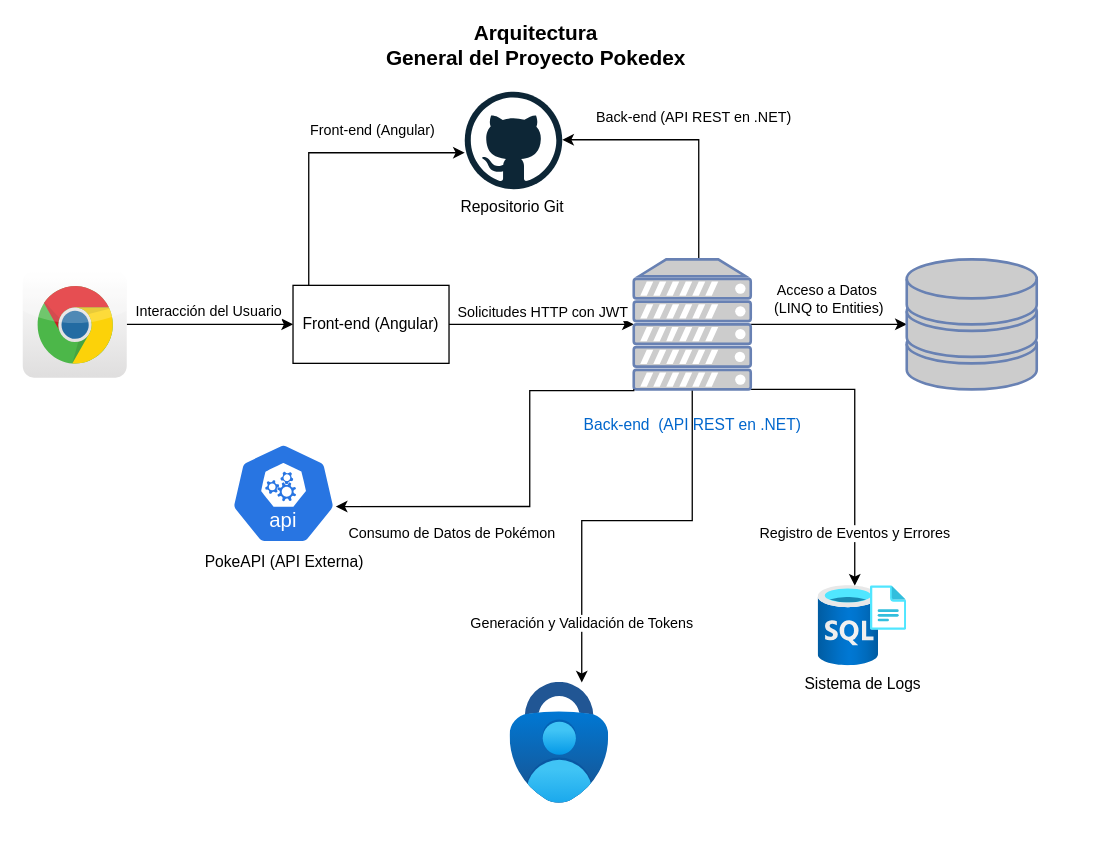
Image size: 1093x853. Some labels were removed from this diagram. The centre of each missing label's shape, as x and y in pixels:
Autenticación JWT: (559,742)
Base de Datos (SQL Server): (971,323)
Cliente: (74,324)
